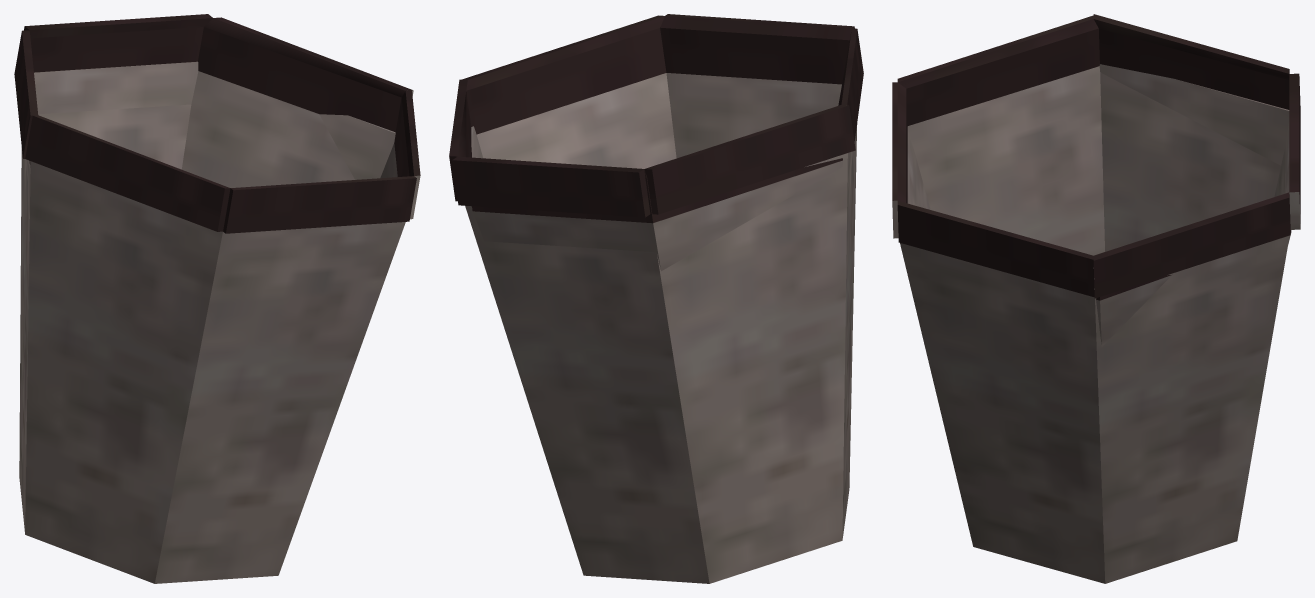
The model's file is BLOCKYGON_BIN.fbx.
3 renders of one model, left to right at view 1: azimuth 30°, elevation 25°; view 2: azimuth 150°, elevation 25°; view 3: azimuth 270°, elevation 25°, orthographic. The views are drawn at different scales.
Visible parts, largest first — view 1: BLOCKYGON_BIN; view 2: BLOCKYGON_BIN; view 3: BLOCKYGON_BIN.
Part boxes in pixels (x1,y1,x2,y2): BLOCKYGON_BIN: (14, 14, 420, 583); BLOCKYGON_BIN: (449, 14, 863, 583); BLOCKYGON_BIN: (892, 14, 1300, 583).
Bounding box in the file's own units: 51.83 × 59.38 × 48.54.
